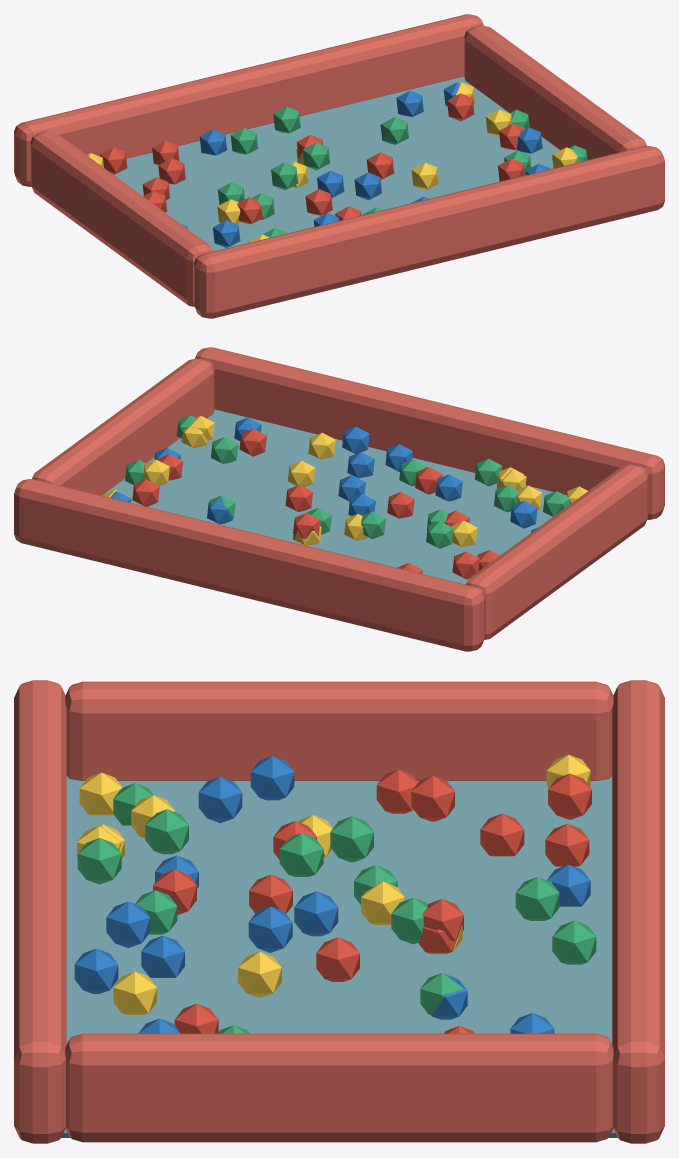
File: playroom-ball-pit.glb
3 views of the same model, one above another, from view 1: azimuth 30°, elevation 25°; view 2: azimuth 150°, elevation 25°; view 3: azimuth 270°, elevation 25° (orthographic). The views are drawn at different scales.
Visible parts, largest first — view 1: Padded pit rim, Pit floor, Padded pit rim.001, Padded pit rim.002, Padded pit rim.003, Ball batch 1, Ball batch 3, Ball batch 4, Ball batch 2; view 2: Padded pit rim.001, Padded pit rim, Pit floor, Padded pit rim.002, Padded pit rim.003, Ball batch 3, Ball batch 1, Ball batch 4, Ball batch 2; view 3: Pit floor, Padded pit rim.003, Padded pit rim.002, Padded pit rim, Padded pit rim.001, Ball batch 1, Ball batch 4, Ball batch 3, Ball batch 2.
Boxes of the visible parts, x1,y1,x2,y2 form: Padded pit rim: (194, 146, 664, 318); Pit floor: (114, 76, 559, 251); Padded pit rim.001: (14, 14, 483, 186); Padded pit rim.002: (30, 131, 213, 306); Padded pit rim.003: (464, 25, 646, 159); Ball batch 1: (100, 93, 524, 224); Ball batch 3: (217, 106, 587, 237); Ball batch 4: (181, 82, 550, 247); Ball batch 2: (87, 82, 578, 242); Padded pit rim.001: (14, 479, 484, 651); Padded pit rim: (195, 347, 664, 519); Pit floor: (102, 409, 566, 584); Padded pit rim.002: (465, 464, 648, 639); Padded pit rim.003: (32, 358, 214, 495); Ball batch 3: (125, 415, 570, 548); Ball batch 1: (132, 428, 500, 578); Ball batch 4: (110, 417, 538, 532); Ball batch 2: (103, 415, 587, 546); Pit floor: (61, 776, 617, 1137); Padded pit rim.003: (65, 1033, 613, 1142); Padded pit rim.002: (65, 681, 613, 780); Padded pit rim: (14, 680, 66, 1143); Padded pit rim.001: (612, 680, 664, 1143); Ball batch 1: (153, 769, 591, 1033); Ball batch 4: (74, 756, 590, 1033); Ball batch 3: (77, 783, 596, 1033); Ball batch 2: (77, 754, 590, 1014).
Bounding box in the file's own units: 7.6 × 0.955 × 5.55.
